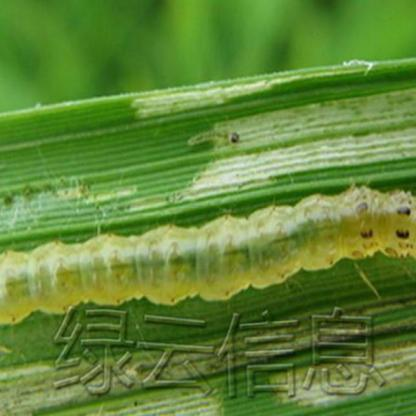leaf-folder: (0, 188, 416, 330), (192, 120, 247, 150)
